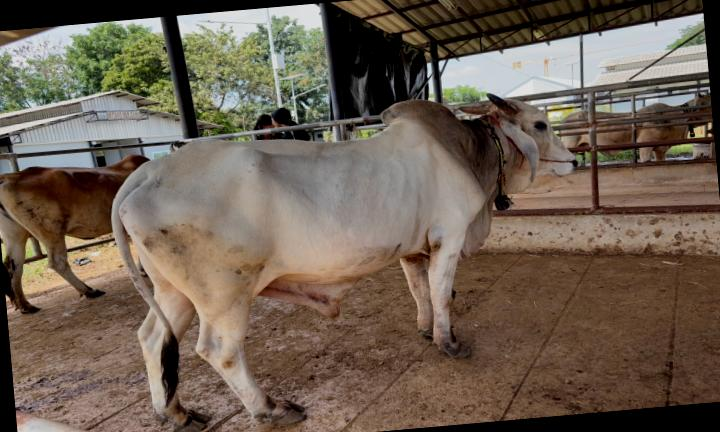Brahman: (112, 95, 575, 432)
